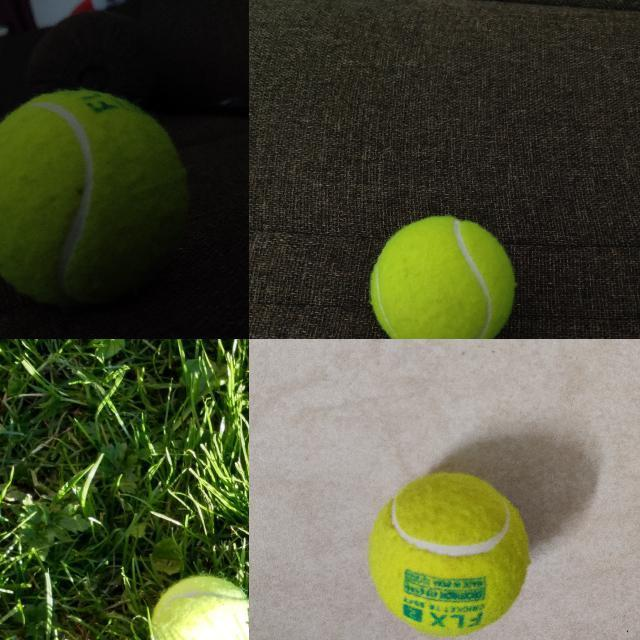tennis-ball: (0, 89, 191, 306), (367, 471, 531, 639), (369, 214, 516, 338), (148, 575, 248, 639)
